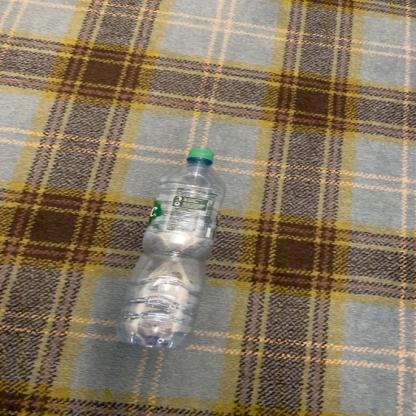trash: (116, 147, 226, 353)
